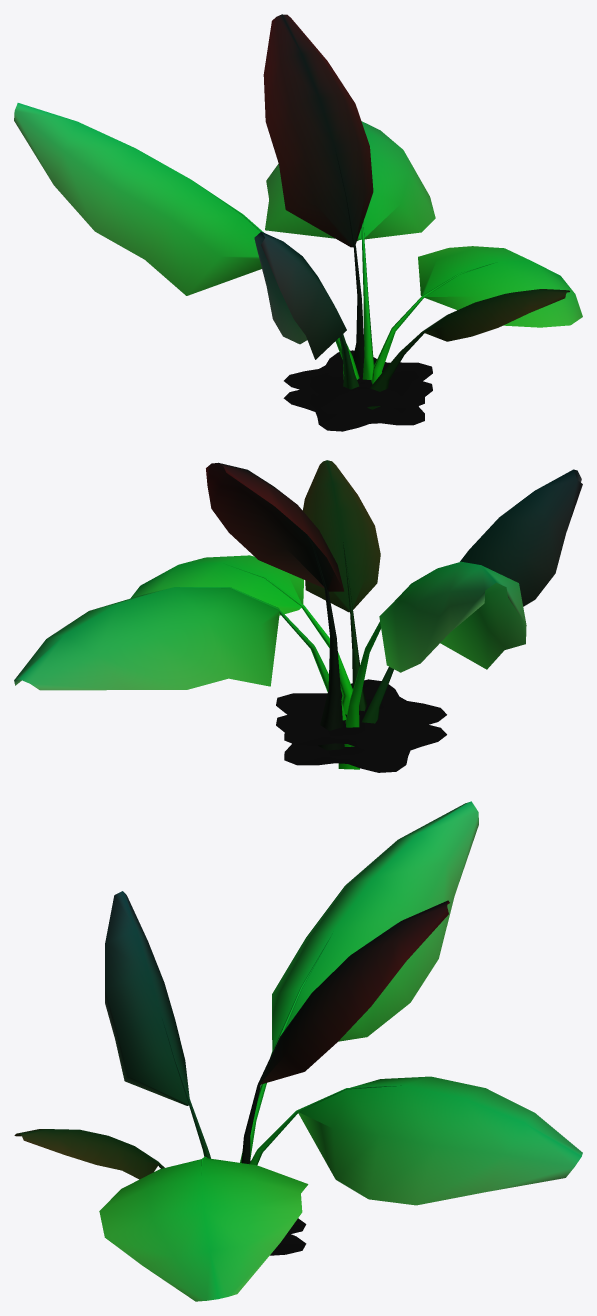
File: Large Fern.fbx
The picture shows the model from 3 angles, top to bottom: view 1: azimuth 30°, elevation 25°; view 2: azimuth 150°, elevation 25°; view 3: azimuth 270°, elevation 25°; orthographic projection. The views are drawn at different scales.
Parts seen in each view (by area): view 1: fern02_1, _0; view 2: fern02_1, _0; view 3: fern02_1, _0.
Part boxes in pixels (x1,y1,x2,y2): fern02_1: (14, 14, 582, 359); _0: (195, 154, 493, 431); fern02_1: (14, 460, 582, 690); _0: (180, 534, 465, 772); fern02_1: (14, 801, 582, 1301); _0: (112, 933, 401, 1255).
Size of the model in its own units: 139 by 96.97 by 136.
